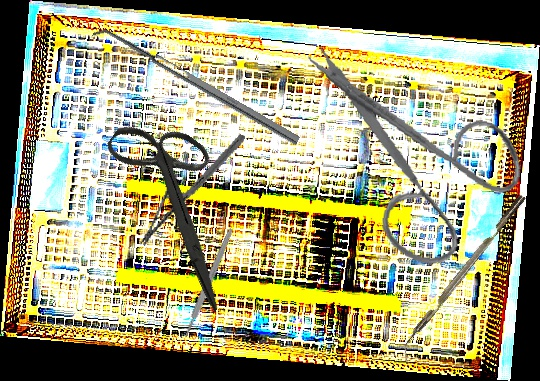Chopper: (393, 194, 534, 362)
Iris Scissors: (281, 41, 533, 275), (64, 99, 290, 313)
Needle Holder: (139, 117, 246, 263)
Scalpel Handle: (182, 227, 235, 338)
Spatula Surgical: (90, 21, 301, 154)
